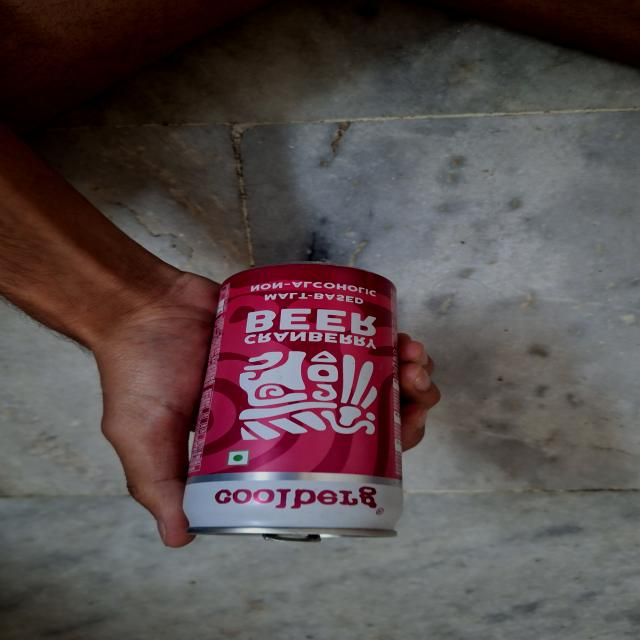Coolberg: (170, 264, 410, 538)
